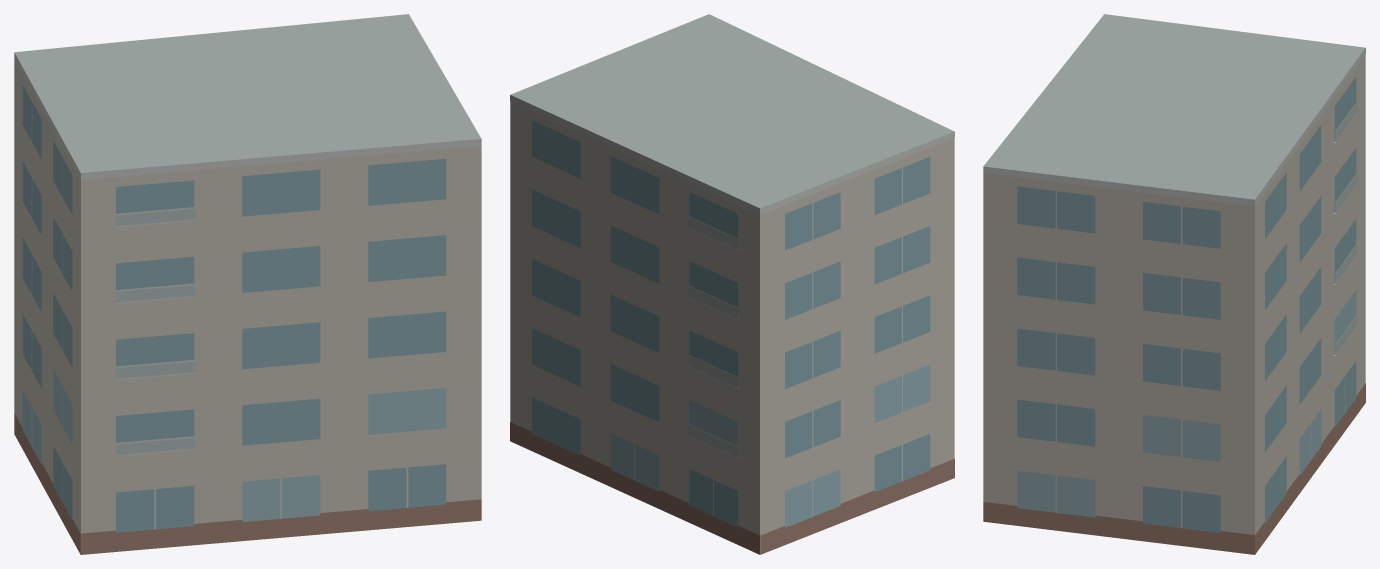
File: survey-upis-32871067.glb
3 renders of one model, left to right at view 1: azimuth 30°, elevation 25°; view 2: azimuth 150°, elevation 25°; view 3: azimuth 270°, elevation 25°, orthographic. The views are drawn at different scales.
Visible parts, largest first — view 1: survey-upis-32871067.tmp; view 2: survey-upis-32871067.tmp; view 3: survey-upis-32871067.tmp.
Part boxes in pixels (left/top/right/bottom): survey-upis-32871067.tmp: left=14, top=14, right=481, bottom=554; survey-upis-32871067.tmp: left=510, top=14, right=954, bottom=554; survey-upis-32871067.tmp: left=983, top=14, right=1365, bottom=554.
Size of the model in its own units: 14.41 by 12.85 by 12.55.
